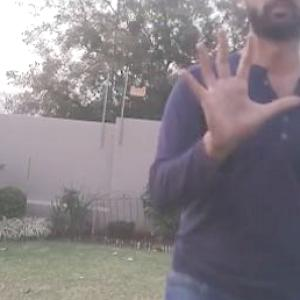follow_hand: (172, 22, 299, 150)
